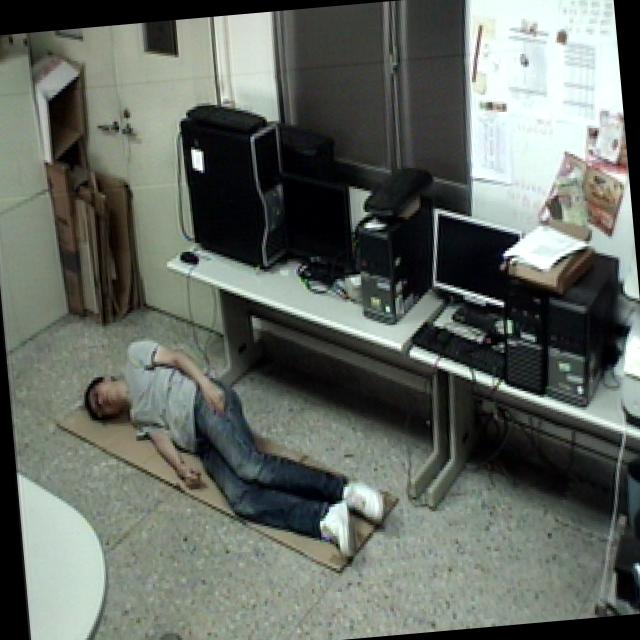lie: (77, 314, 392, 584)
